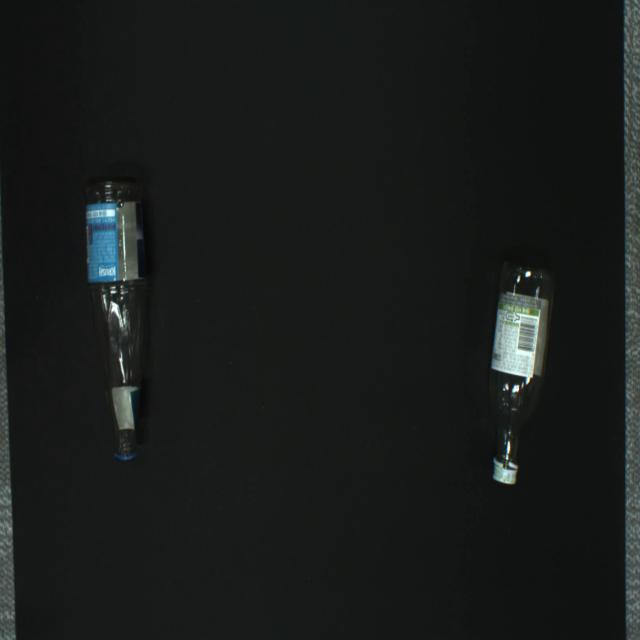beer-bottle: (85, 174, 157, 461)
soju-bottle: (489, 260, 555, 485)
